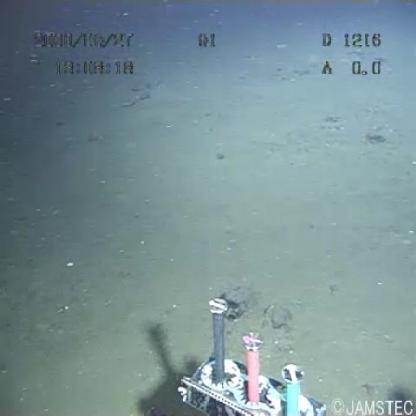Rov: (174, 293, 326, 416)
